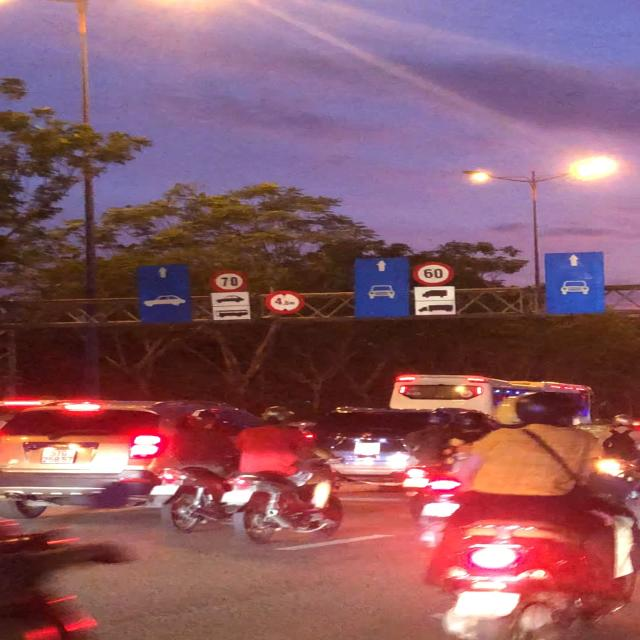Bien bao han che chieu cao: (261, 289, 309, 316)
Bien bao toc do toi da cho phep: (412, 258, 460, 286), (204, 269, 246, 293)
